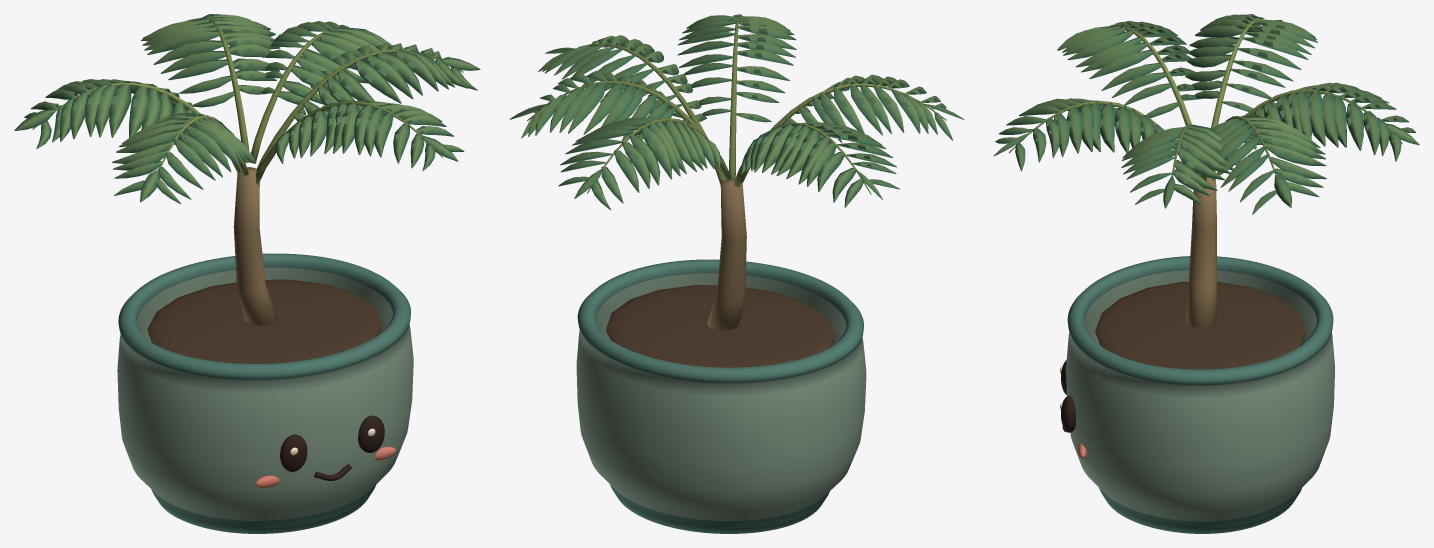
The model's file is kentia-palm-v1.glb.
3 views of the same model, side by side, from view 1: azimuth 30°, elevation 25°; view 2: azimuth 150°, elevation 25°; view 3: azimuth 270°, elevation 25° (orthographic). The views are drawn at different scales.
Visible parts, largest first — view 1: Wheel-thrown ceramic, Kentia single trunk and pendent ribbons, Soil, Eye, Eye.001; view 2: Wheel-thrown ceramic, Kentia single trunk and pendent ribbons, Soil; view 3: Wheel-thrown ceramic, Kentia single trunk and pendent ribbons, Soil.
Boxes of the visible parts, <box> form: Wheel-thrown ceramic: <box>117,253,413,533</box>; Kentia single trunk and pendent ribbons: <box>14,14,480,325</box>; Soil: <box>147,279,381,363</box>; Eye: <box>280,434,307,471</box>; Eye.001: <box>358,415,384,452</box>; Wheel-thrown ceramic: <box>576,259,866,533</box>; Kentia single trunk and pendent ribbons: <box>509,14,964,330</box>; Soil: <box>606,285,834,367</box>; Wheel-thrown ceramic: <box>1066,256,1334,533</box>; Kentia single trunk and pendent ribbons: <box>993,14,1419,327</box>; Soil: <box>1095,282,1305,369</box>.
Bounding box in the file's own units: 2.52 × 2.51 × 2.37.
